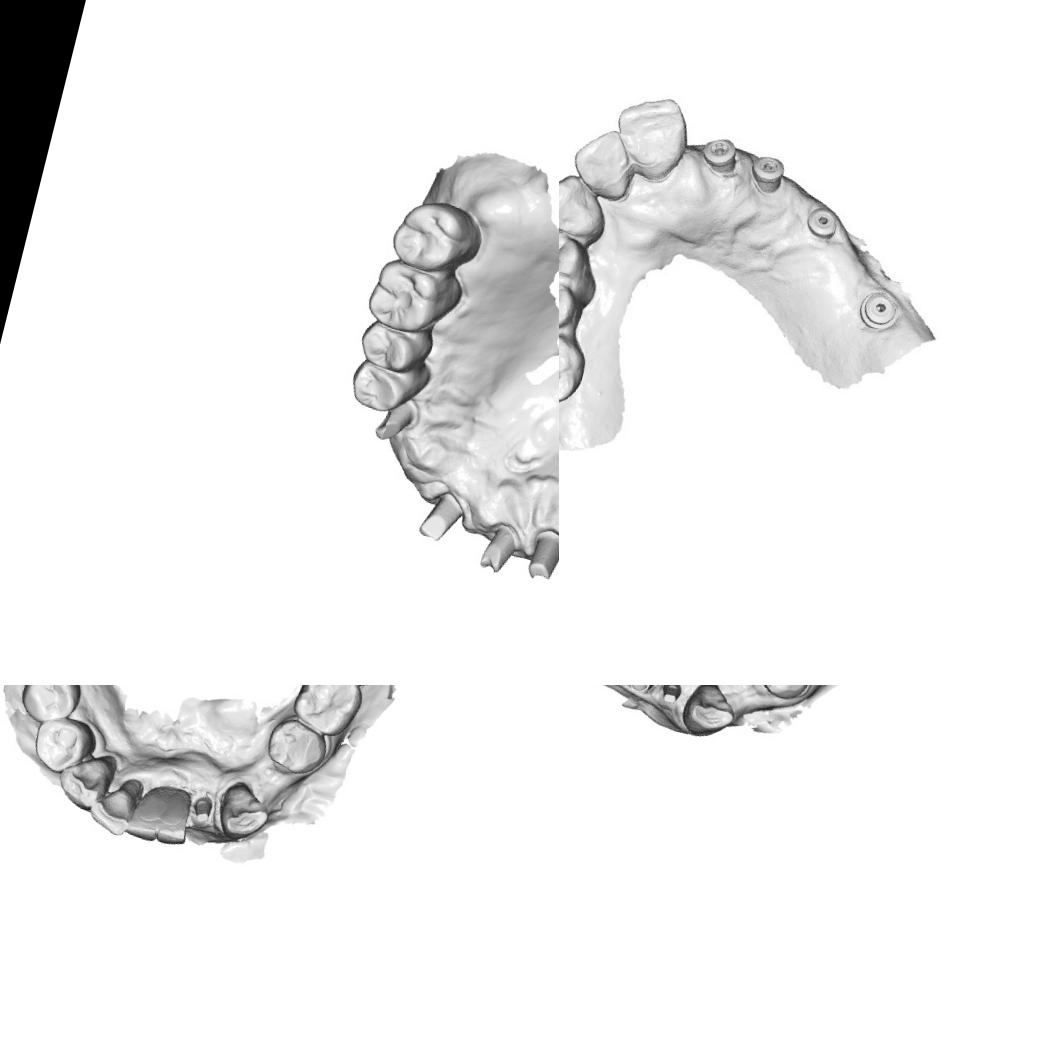abutment: (412, 482, 472, 550), (472, 518, 524, 579), (368, 390, 419, 448), (520, 523, 559, 588), (190, 793, 216, 825), (657, 685, 683, 706), (623, 685, 660, 697)
canine: (52, 743, 118, 816), (212, 776, 276, 846), (677, 685, 742, 742), (559, 179, 614, 244)
implant: (854, 286, 900, 332), (802, 202, 843, 246)
implant_minus: (746, 153, 786, 198), (698, 131, 738, 172)
incisor: (609, 90, 692, 178), (566, 124, 638, 198), (84, 768, 144, 839), (124, 777, 169, 843), (154, 784, 196, 848)
molar: (383, 191, 489, 284), (360, 253, 466, 344), (286, 685, 369, 742), (559, 324, 584, 404)
premolar: (342, 350, 432, 423), (352, 312, 437, 382), (26, 708, 100, 780), (260, 713, 332, 780), (14, 685, 86, 730), (559, 223, 592, 291), (747, 685, 817, 704), (559, 277, 578, 336)
